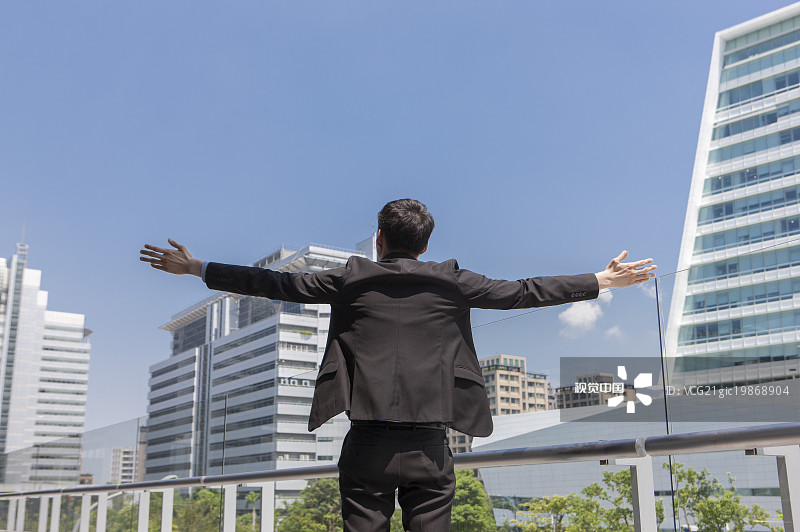no-phone: (126, 224, 215, 287), (592, 237, 667, 298)
